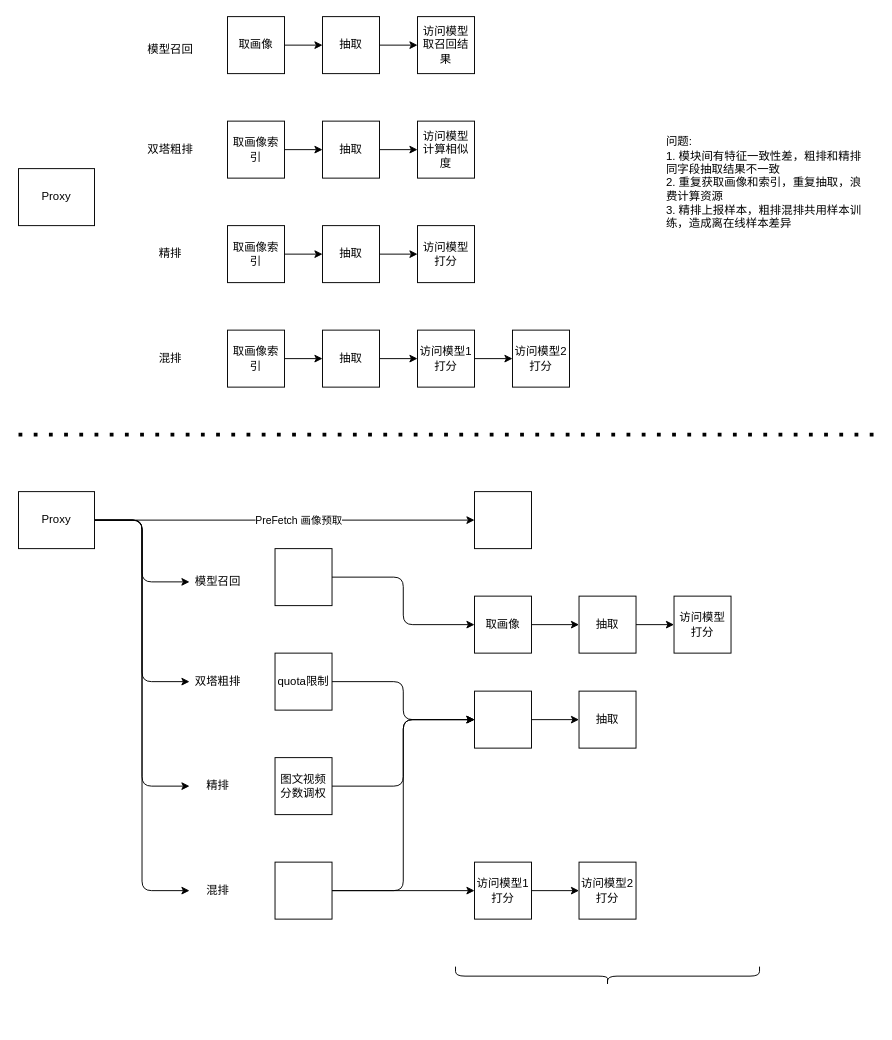
Some shapes in this 892 by 1040 pixel diagram are drawn without their labels. The shapes that lost their labels are listed below. From the top down, each one's centre as x and y in pixels, then its label:
At (x=503, y=520): "取画像并cache".
At (x=303, y=577): "业务逻辑".
At (x=503, y=719): "取索引".
At (x=303, y=890): "截断策略".
At (x=607, y=976): "PredictServer".
